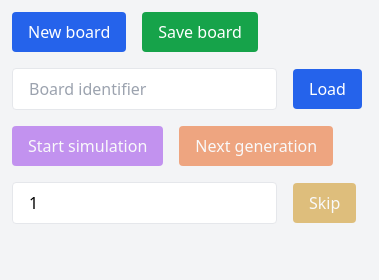
Scenario: Controls › shows error when trying to load without board ID
Click the button with test id "load-board-button" at (327, 89), box [293,69,362,109]
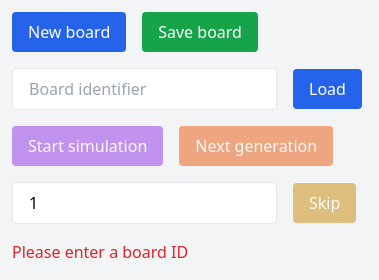
Check: the text with test id "error-message" reads "Please enter a board ID", box [12,241,188,263]
